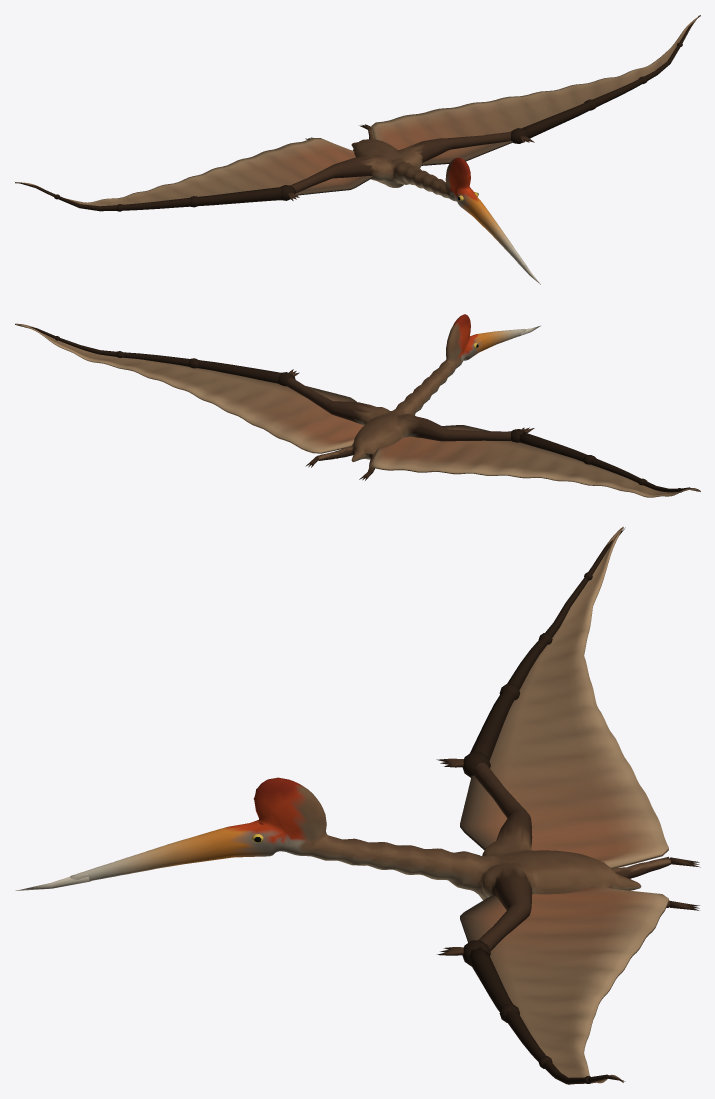
File: Quetzalcoatlus.fbx
The picture shows the model from 3 angles, top to bottom: view 1: azimuth 30°, elevation 25°; view 2: azimuth 150°, elevation 25°; view 3: azimuth 270°, elevation 25°; orthographic projection. The views are drawn at different scales.
Parts seen in each view (by area): view 1: Quetzalcoatlus; view 2: Quetzalcoatlus; view 3: Quetzalcoatlus.
Boxes of the visible parts, x1,y1,x2,y2 form: Quetzalcoatlus: (15,15,700,284); Quetzalcoatlus: (15,314,700,497); Quetzalcoatlus: (15,526,700,1084).
Bounding box in the file's own units: 5.6 × 0.6095 × 2.93.
